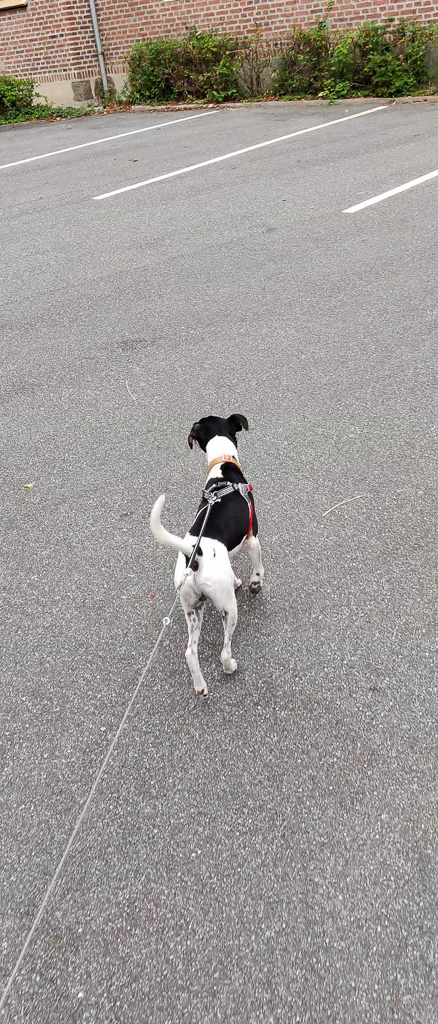Dog: (134, 398, 283, 720)
